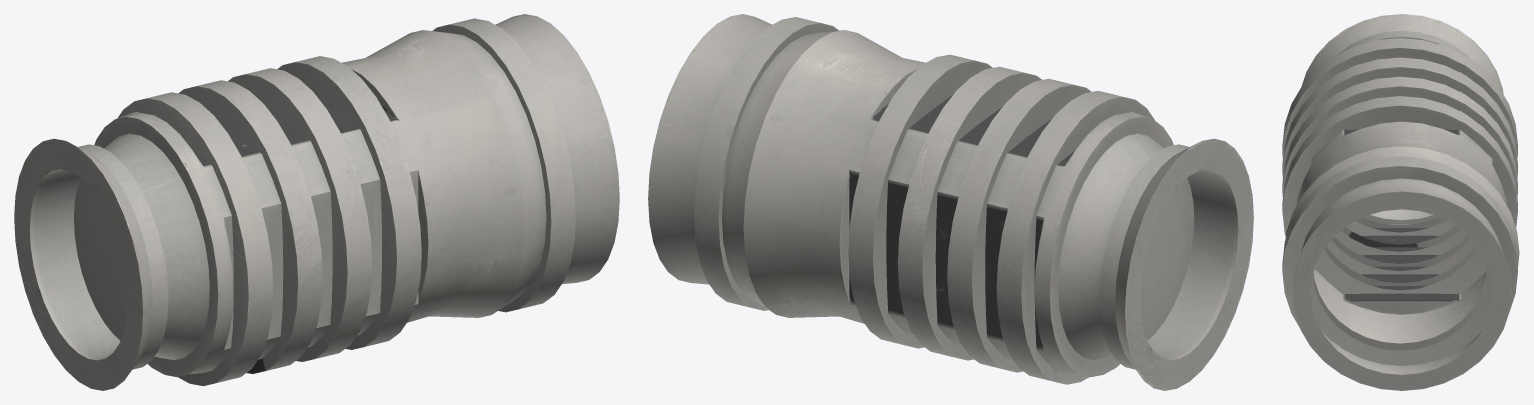
Rendered from pommel_13_c_d.glb.
The picture shows the model from 3 angles, left to right: view 1: azimuth 30°, elevation 25°; view 2: azimuth 150°, elevation 25°; view 3: azimuth 270°, elevation 25°; orthographic projection. The views are drawn at different scales.
Parts seen in each view (by area): view 1: pommel_13_c_d_lod0; view 2: pommel_13_c_d_lod0; view 3: pommel_13_c_d_lod0.
Boxes of the visible parts, <box> form: pommel_13_c_d_lod0: <box>14,14,619,390</box>; pommel_13_c_d_lod0: <box>648,14,1253,390</box>; pommel_13_c_d_lod0: <box>1282,14,1519,390</box>.
Size of what is drawn, in the model's own units: 0.0574 by 0.031 by 0.0312.
Materials: 1 (1 with a texture image).
